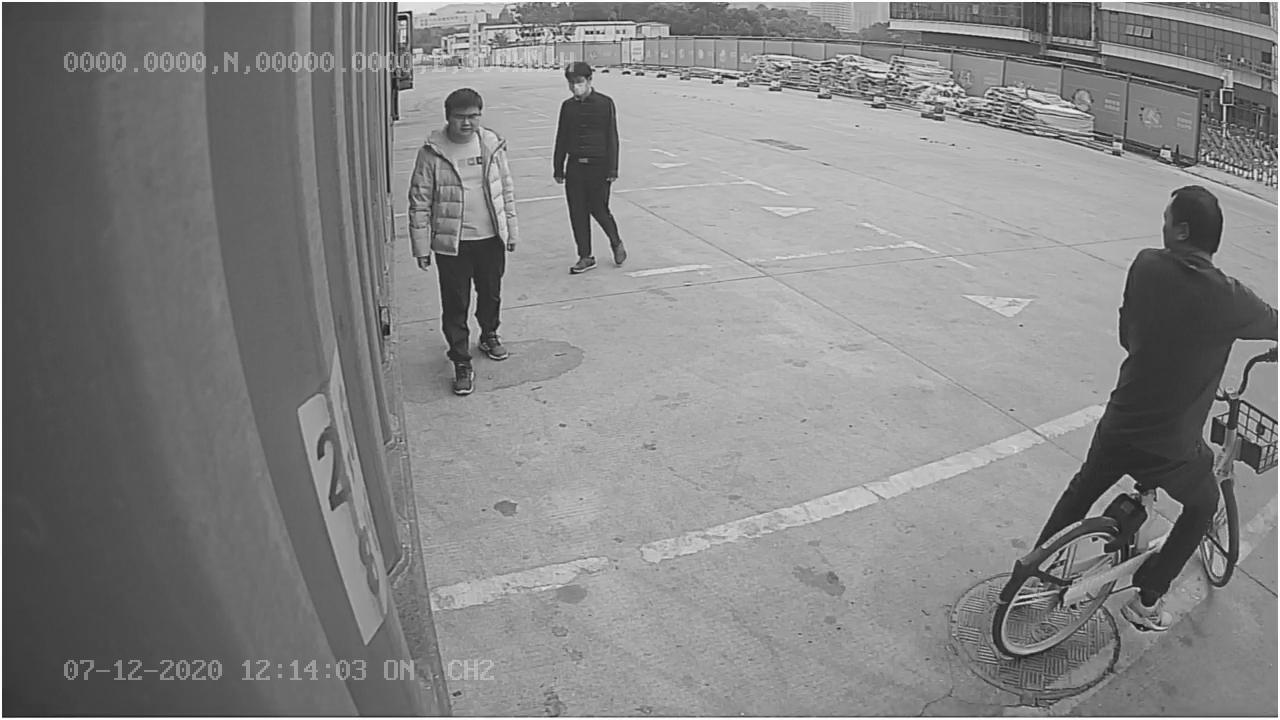person: (408, 86, 522, 392), (541, 52, 639, 286)
